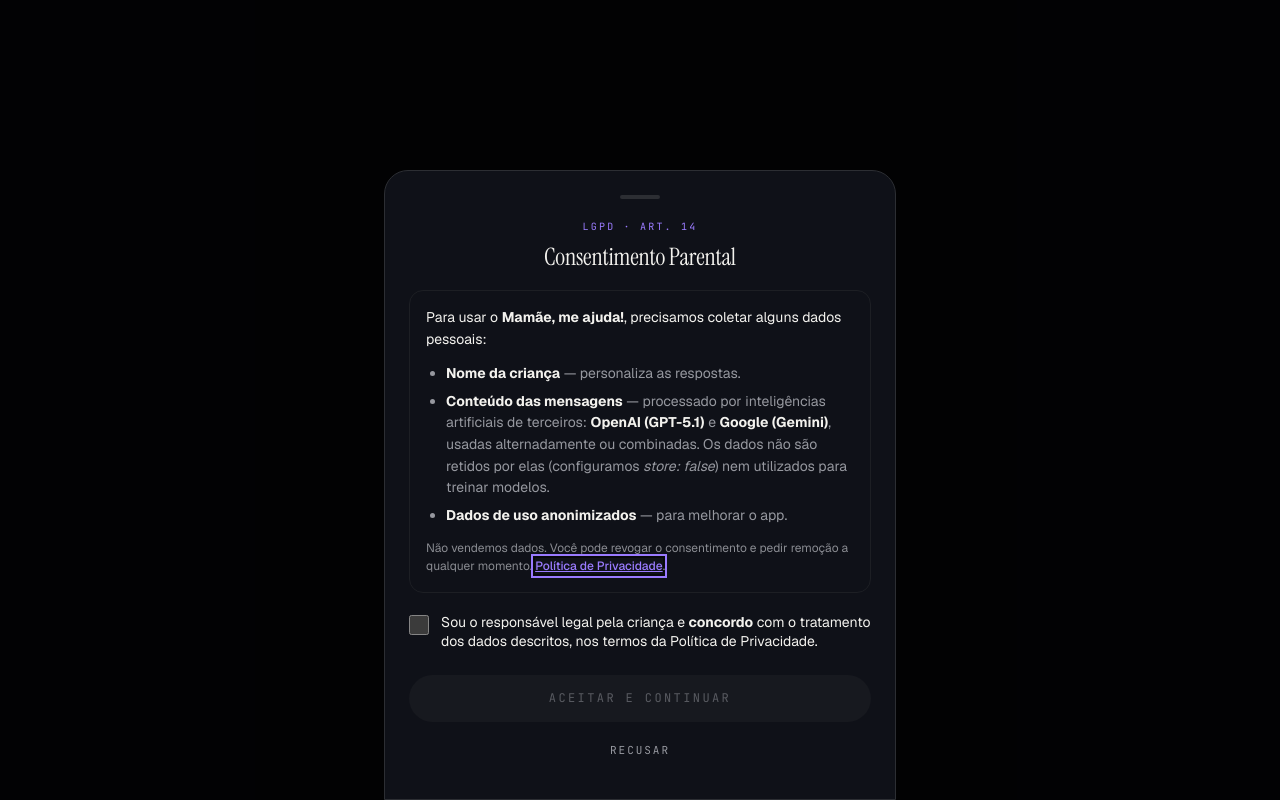
ConsentModal › accept button becomes enabled after checking the checkbox
Click the checkbox at (419, 625), box x1=409 y1=615 x2=429 y2=635
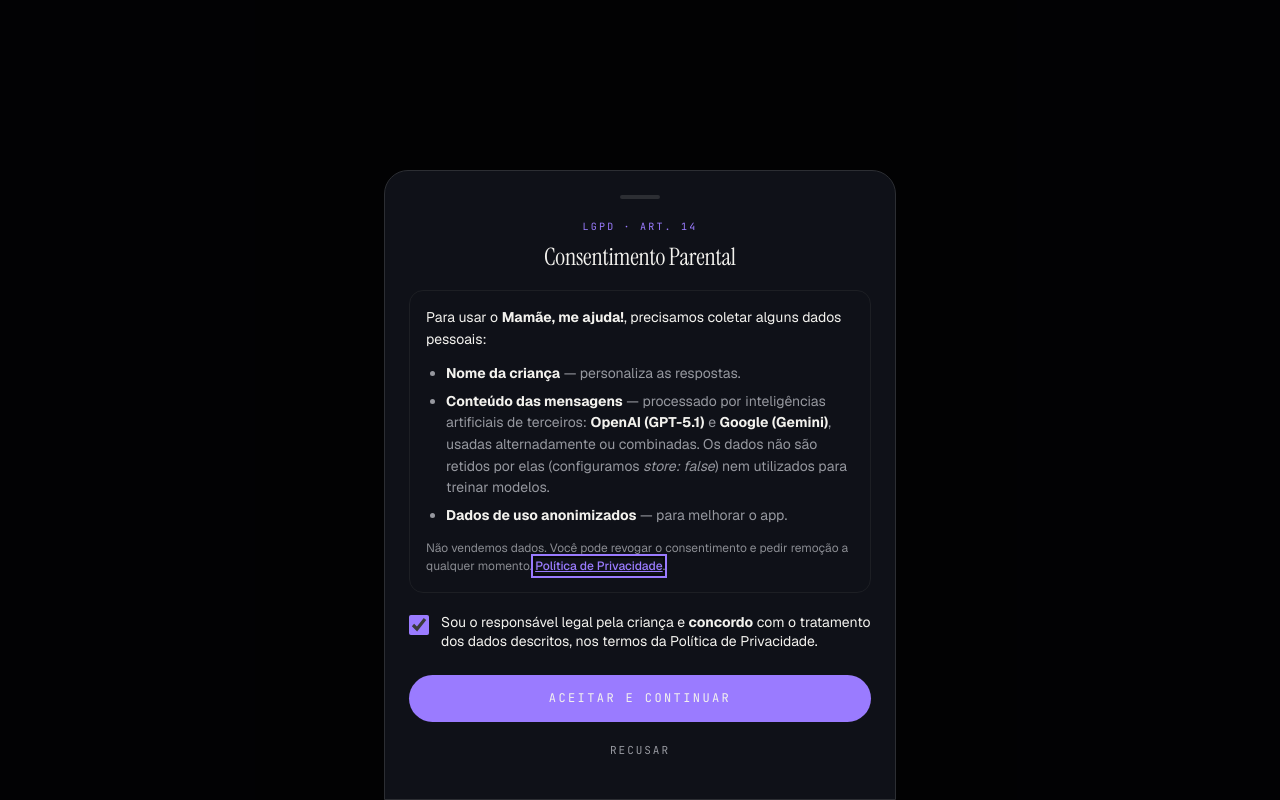
Expected: the button "Aceitar e continuar" is enabled, x1=409 y1=675 x2=871 y2=722
